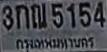1: (66, 2, 74, 27)
3: (2, 4, 13, 30)
4: (93, 1, 104, 26)
5: (78, 1, 90, 26), (51, 2, 62, 27)
A01: (15, 4, 29, 29)
A19: (30, 2, 46, 28)
BKK: (12, 35, 97, 52)
